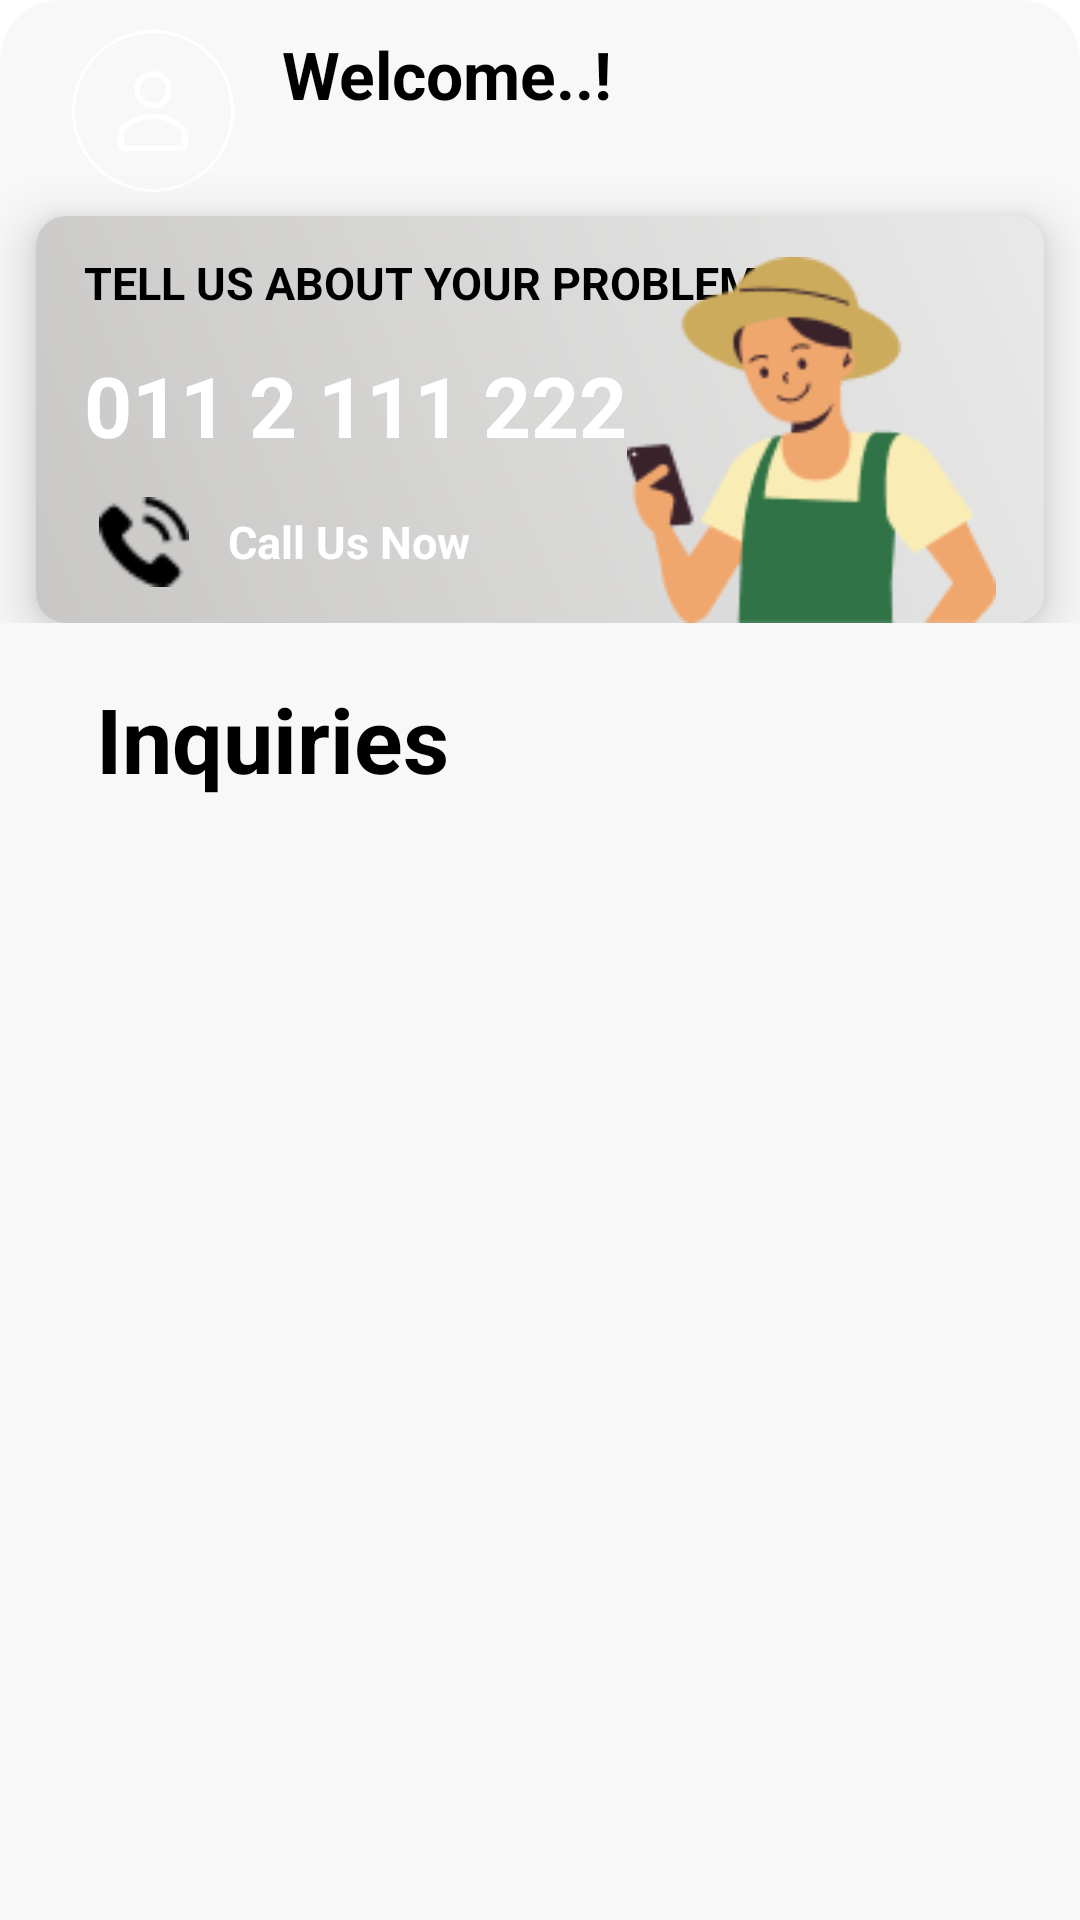

Locate icon controls on the screen. Image size 1080px×1920px, boxes as BBox(x1, y1, x2, y2).
telephone: BBox(99, 497, 189, 587)
